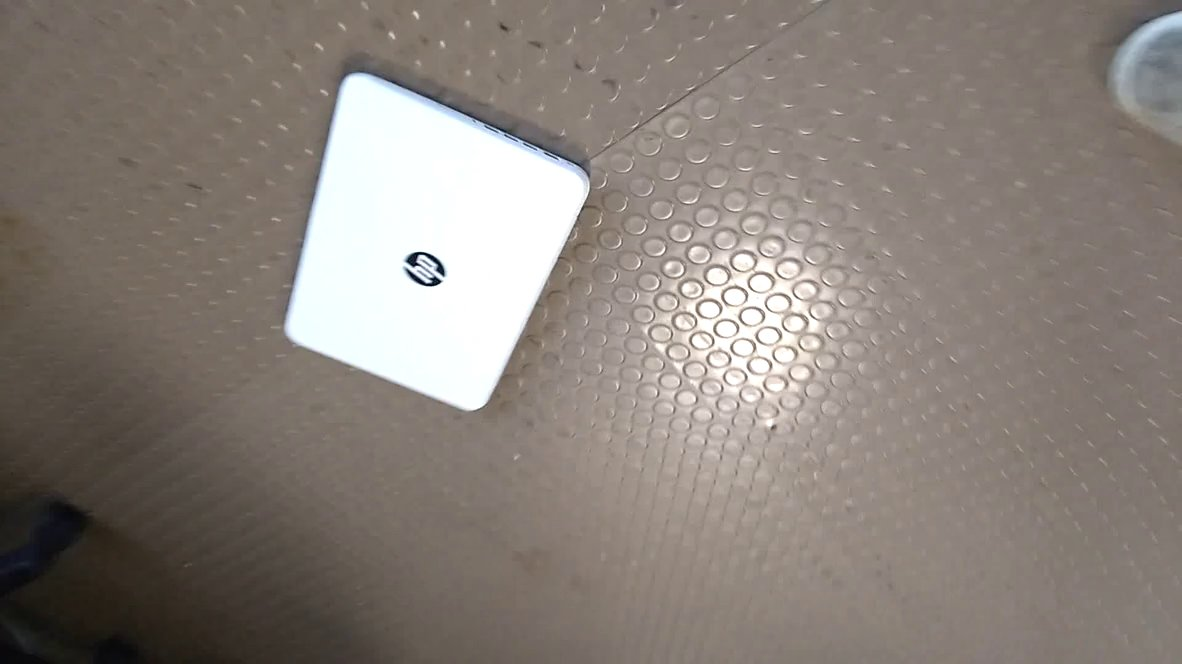laptop: (278, 57, 595, 431)
